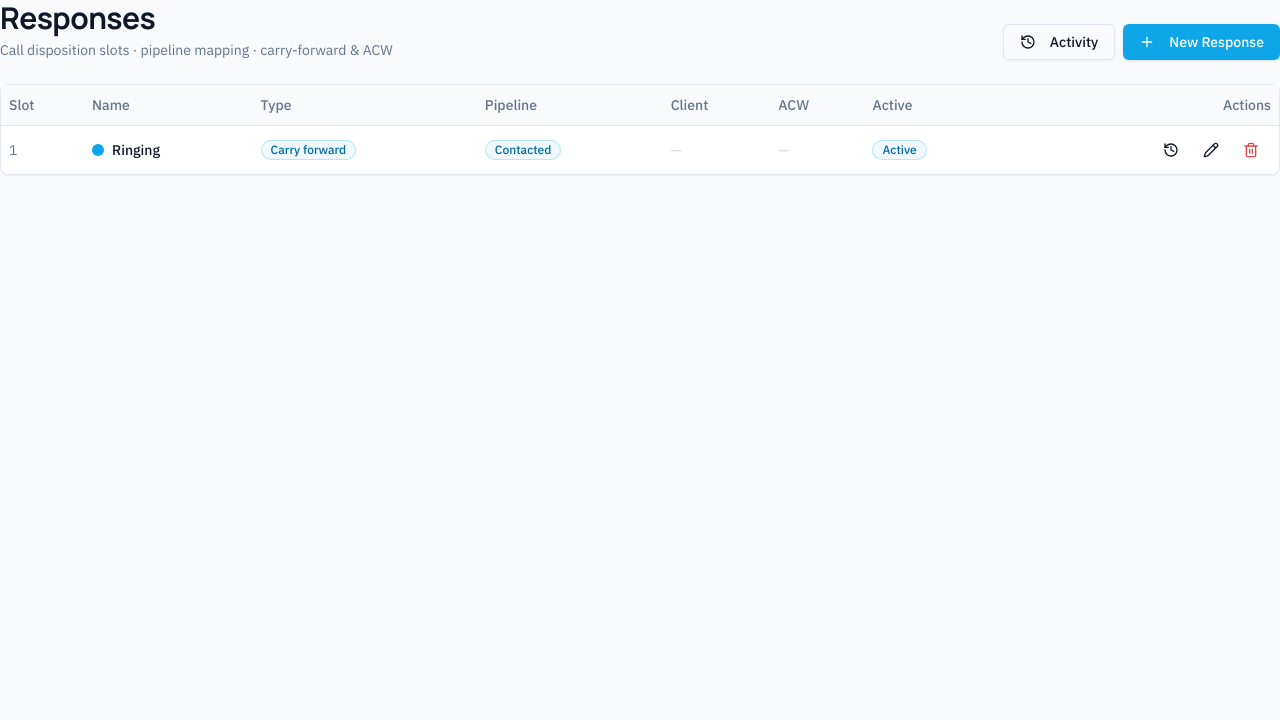
Scenario: Dispositions activity history › opens page-level activity sheet with disposition changes
Click the button with test id "disp-activity-btn". click: (1059, 42)
box: [1003,24,1115,60]
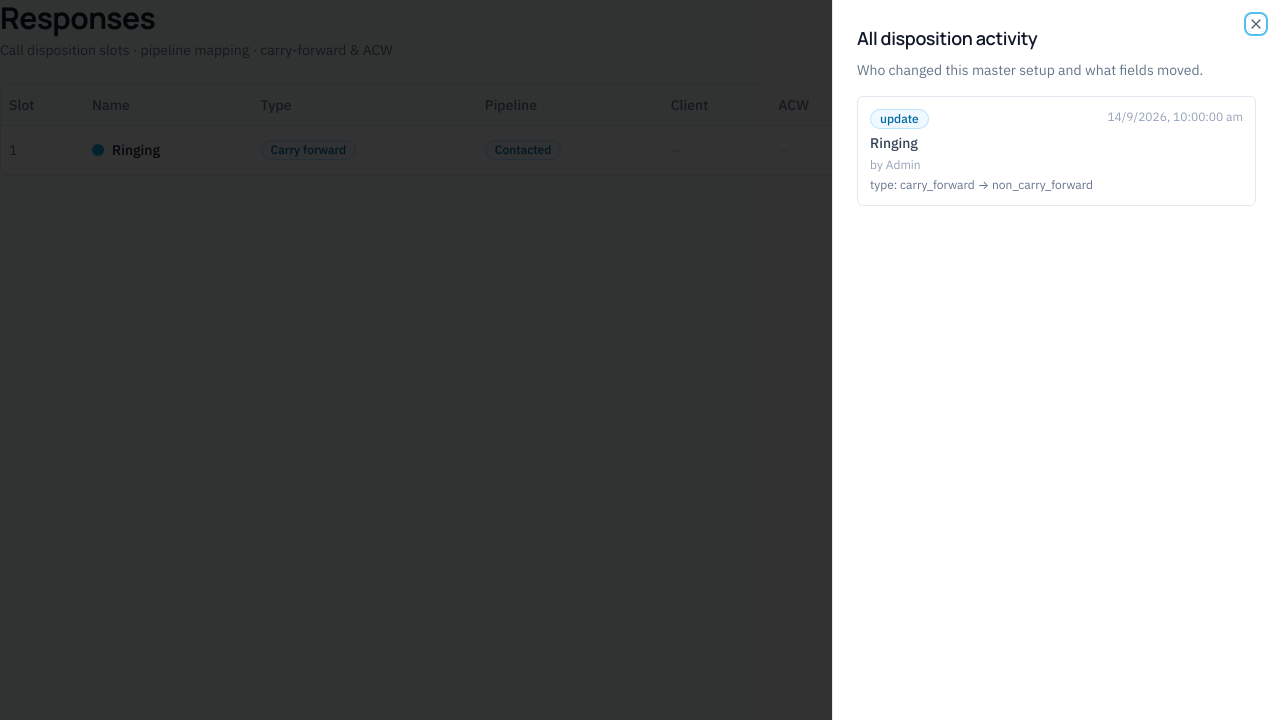
Expected: the dialog with test id "disp-activity-sheet" is shown, [832,0,1279,719]
Expected: the element with test id "disp-activity-row-log-all-1" is shown, [857,96,1256,206]
Expected: the text "type: carry_forward → non_carry_forward" is shown, [870,177,1093,192]
